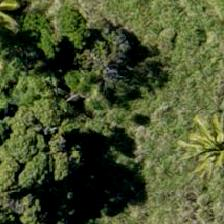Kelapa_Sawit: (169, 106, 223, 197), (170, 87, 223, 178), (0, 0, 53, 49)
